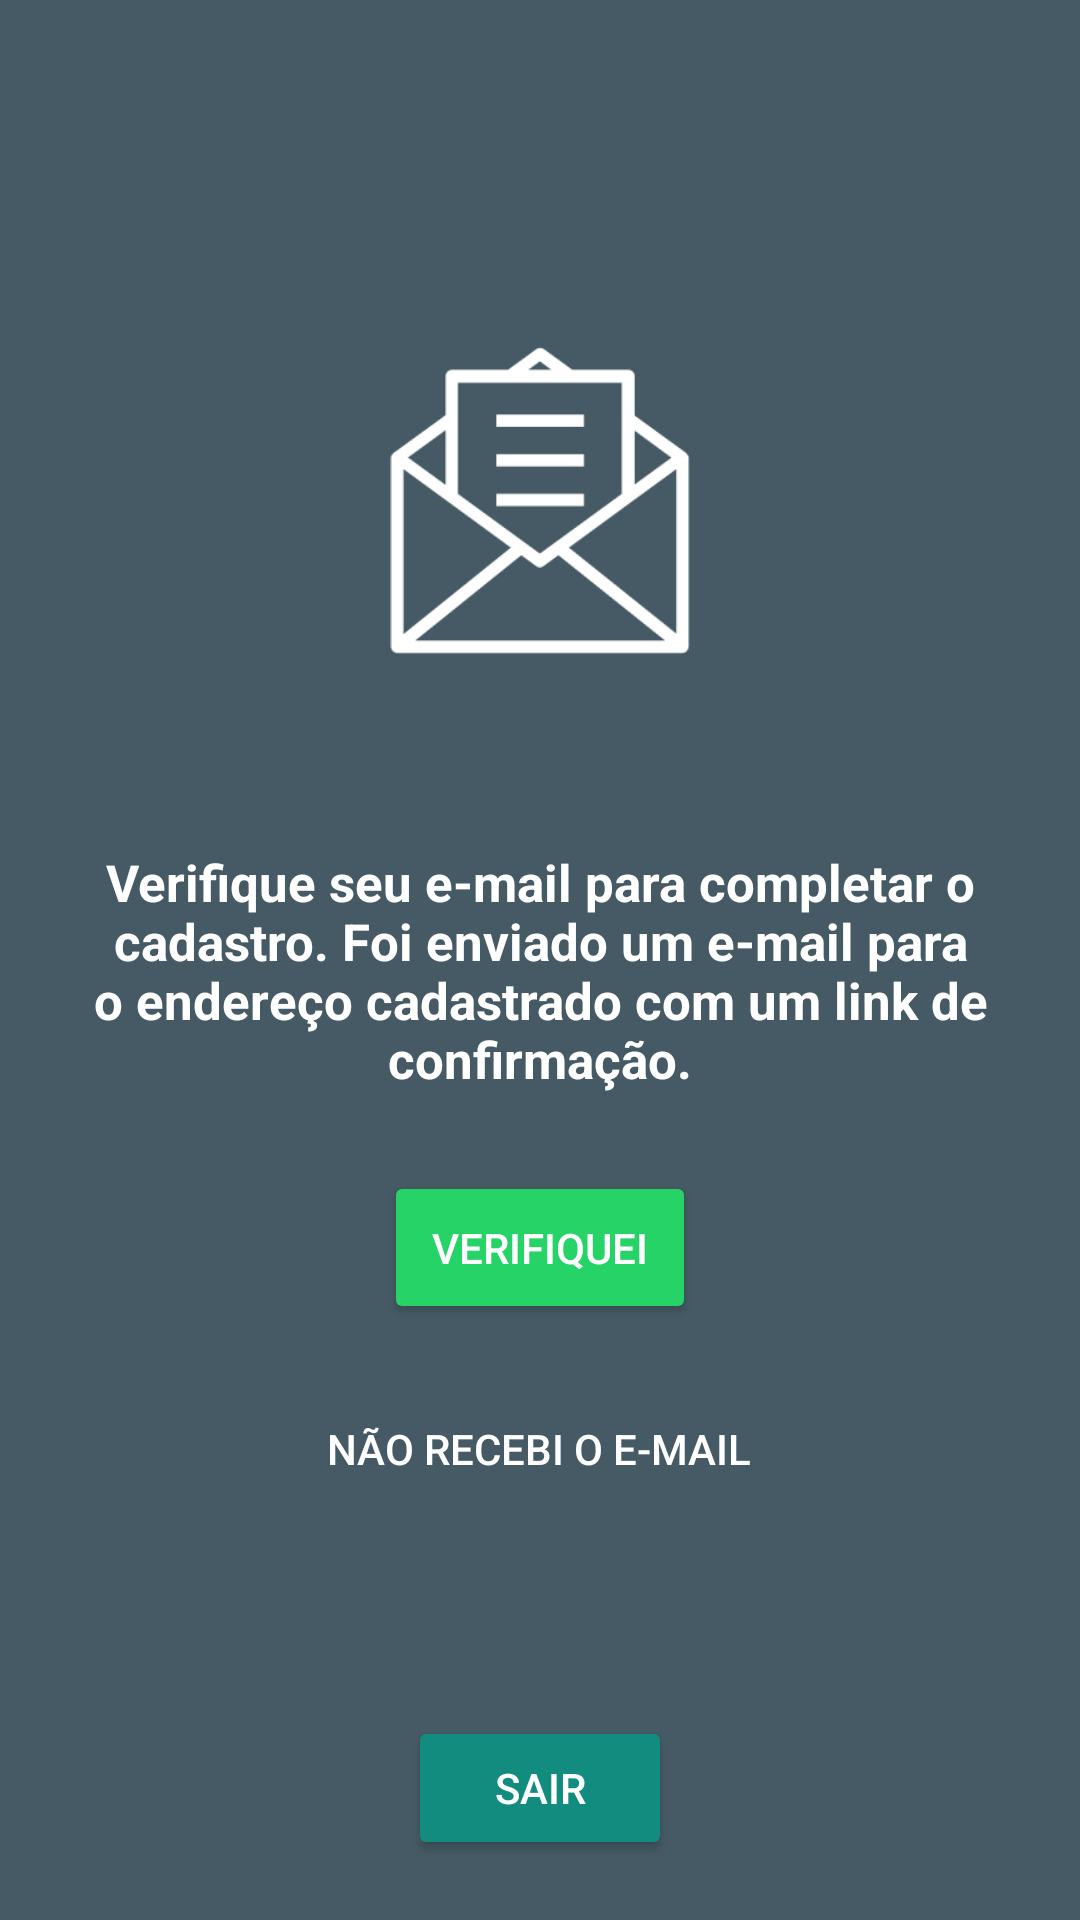

Named icons in this screenshot (1080px×1920px) and their bounding boxes, (x1, y1, x2, y2):
email: (390, 348, 689, 654)
